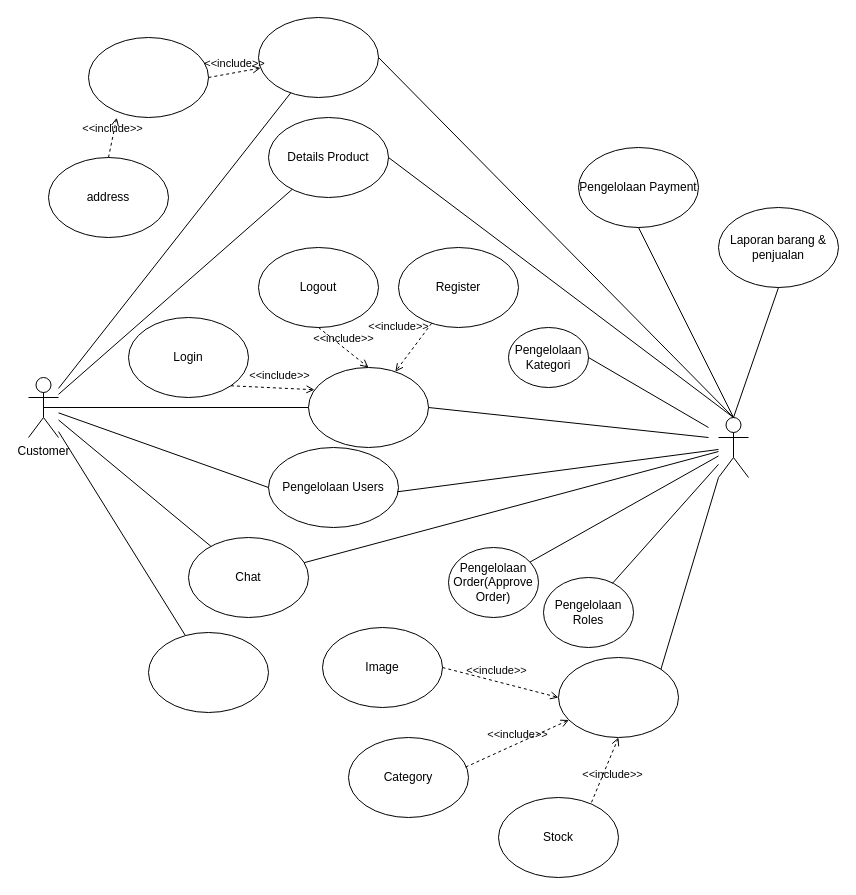
This 856x895 diagram has some shape labels left out. Here are the shapes that lost their labels. From the top down, the centre of each, then its label:
At point 148,77: "Checkout".
At point 318,57: "Cart".
At point 368,407: "Login system".
At point 733,447: "Admin".
At point 208,672: "Feedback".
At point 618,697: "Pengelolaan Produk".
